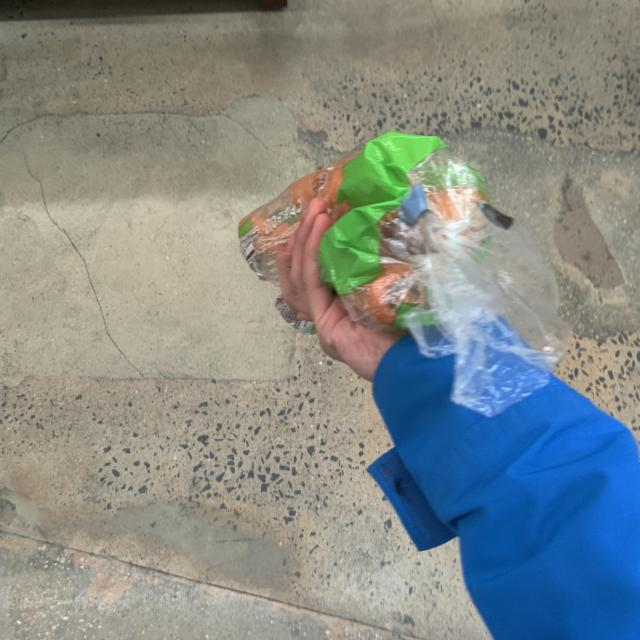Carrot: (217, 120, 529, 362)
